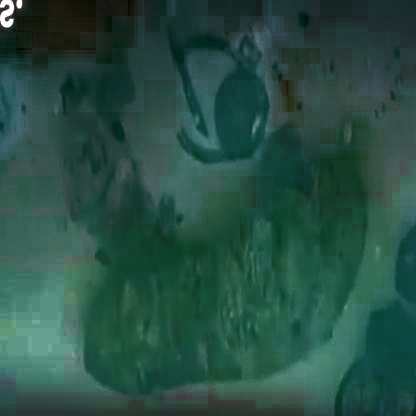misc: (150, 38, 296, 173)
